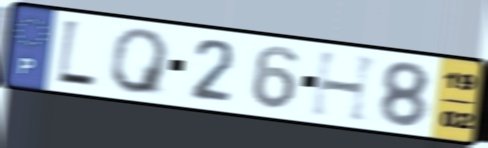2: (186, 37, 238, 106)
6: (249, 44, 303, 112)
8: (374, 59, 433, 129)
H: (308, 49, 383, 126)
L: (53, 16, 101, 92)
Q: (108, 27, 174, 99)
